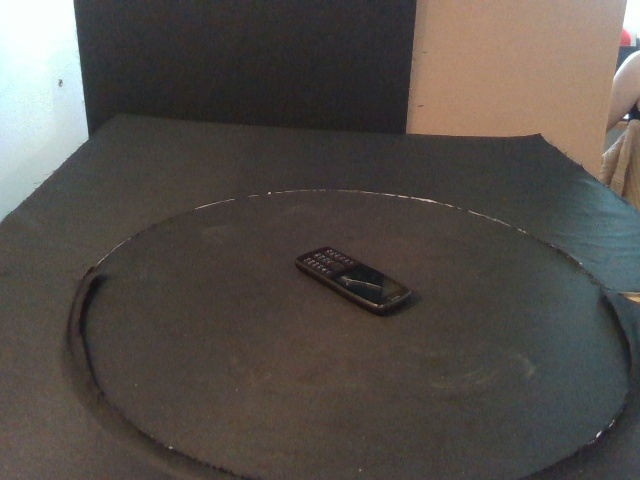phone: (293, 245, 414, 315)
